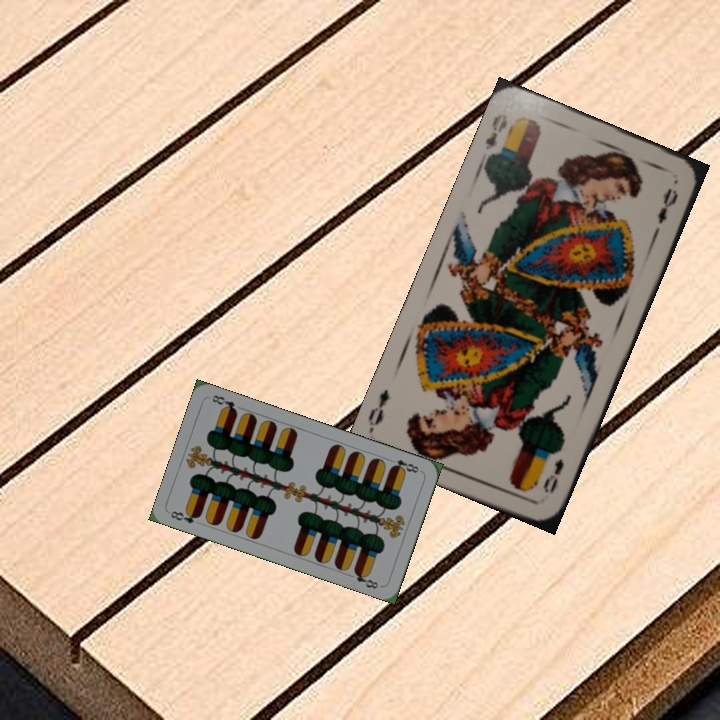E8: (166, 506, 206, 528), (384, 454, 421, 476)
EO: (481, 109, 510, 153), (539, 454, 567, 496)
